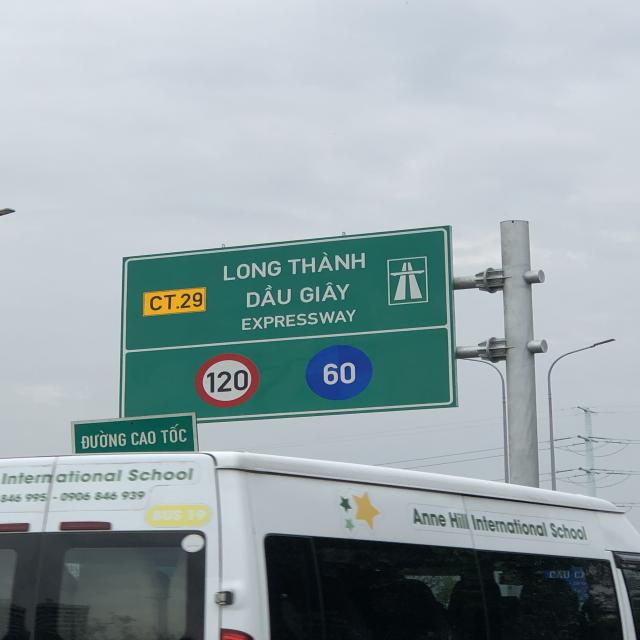Bien bao toc do toi thieu cho phep: (301, 341, 378, 405)
